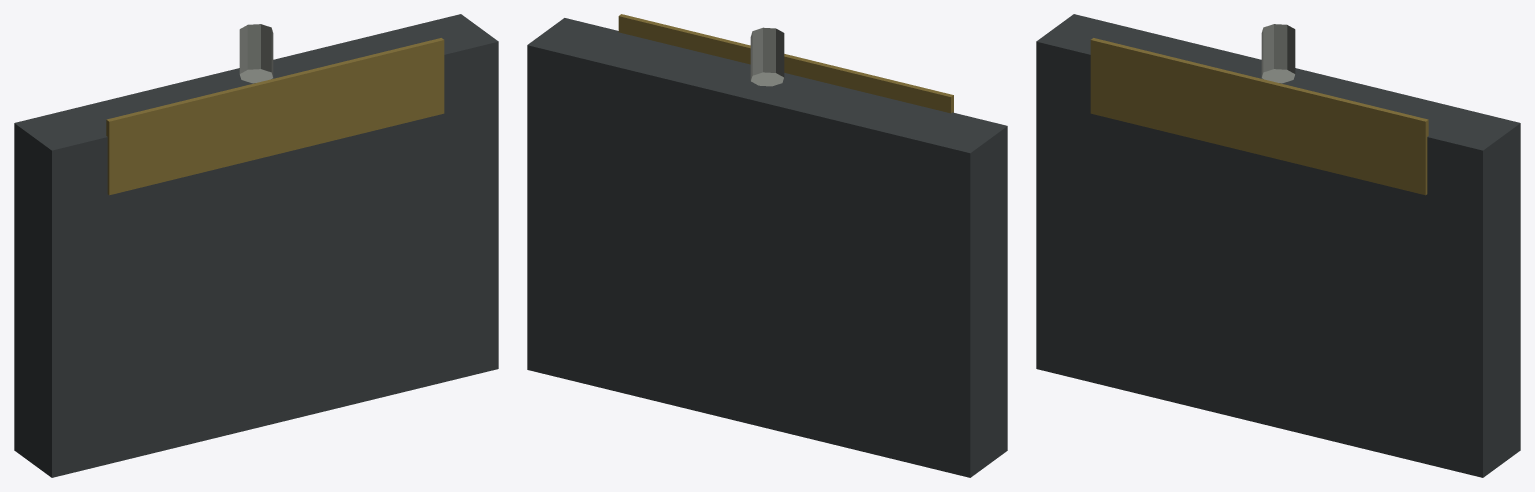
The model's file is arena_wall.glb.
3 renders of one model, left to right at view 1: azimuth 30°, elevation 25°; view 2: azimuth 150°, elevation 25°; view 3: azimuth 330°, elevation 25°, orthographic.
Parts seen in each view (by area): view 1: body; view 2: body; view 3: body.
Part boxes in pixels (x1,y1,x2,y2): body: [14, 14, 498, 477]; body: [527, 14, 1007, 477]; body: [1036, 14, 1520, 477].
Size of the model in its own units: 1.6 by 1.3 by 0.243.
Materials: 1 (1 with a texture image).
